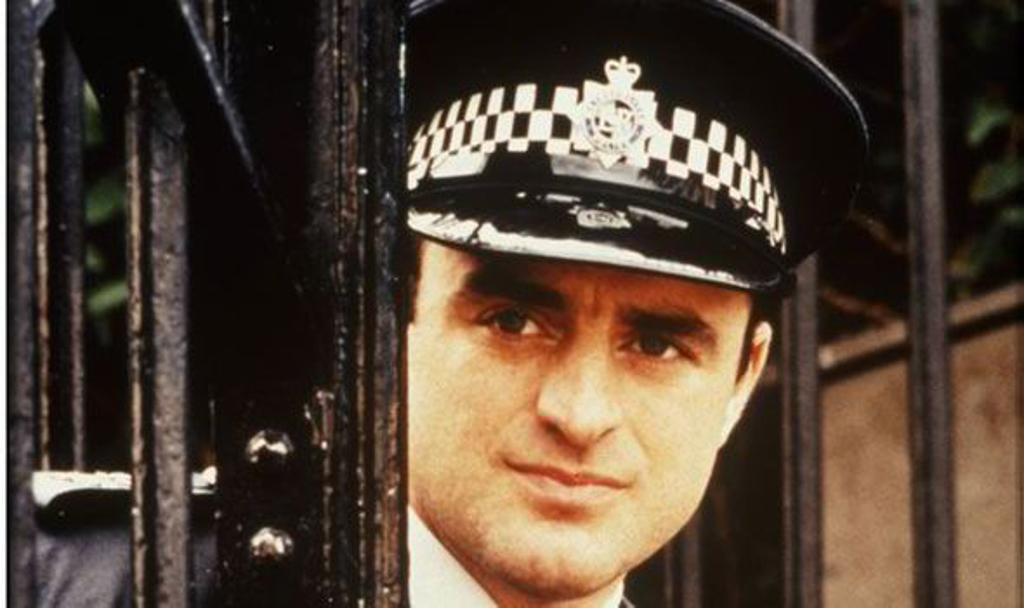face: (404, 150, 748, 584)
